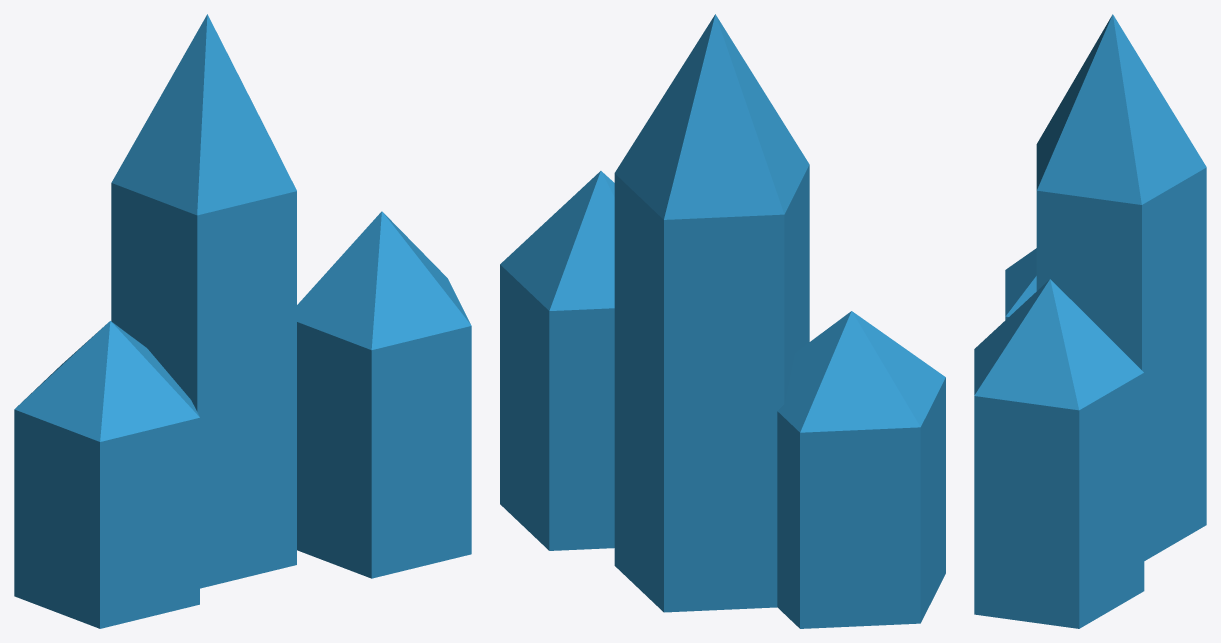
The model's file is crystal_blue.glb.
The picture shows the model from 3 angles, left to right: view 1: azimuth 30°, elevation 25°; view 2: azimuth 150°, elevation 25°; view 3: azimuth 270°, elevation 25°; orthographic projection. The views are drawn at different scales.
Visible parts, largest first — view 1: crystal_blue; view 2: crystal_blue; view 3: crystal_blue.
Boxes of the visible parts, x1=… form: crystal_blue: x1=14, y1=14, x2=471, y2=628; crystal_blue: x1=500, y1=14, x2=945, y2=628; crystal_blue: x1=974, y1=14, x2=1206, y2=628.
Size of the model in its own units: 1.47 by 1.8 by 0.7427.
